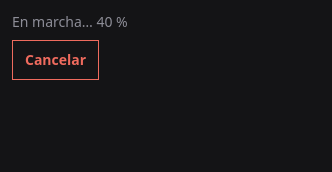
Scenario: BotonAccion › cancela el trabajo en marcha y refresca la página
Click the button with aria-label "Cancelar el trabajo". click: (56, 60)
box: top-left (12, 40), bottom-right (99, 80)
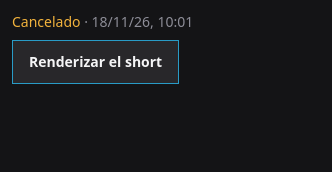
Result: the text "Cancelado" is shown at top-left (12, 12), bottom-right (80, 31)
